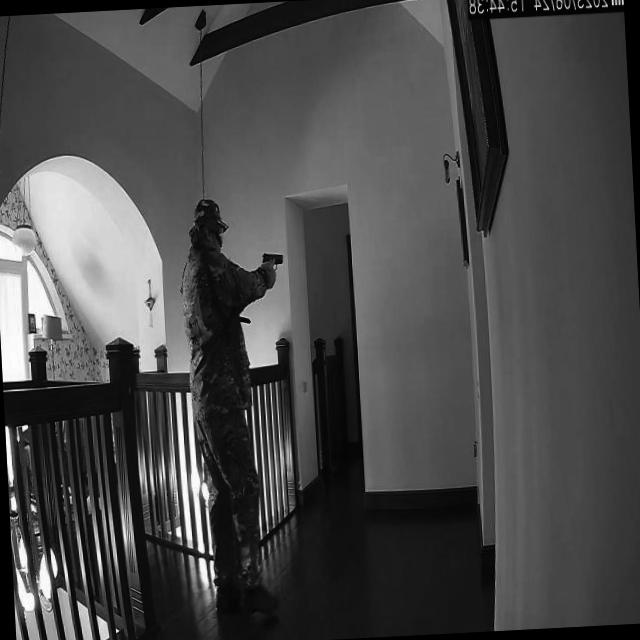gun: (262, 247, 284, 284)
person with a gun: (177, 192, 279, 626)
